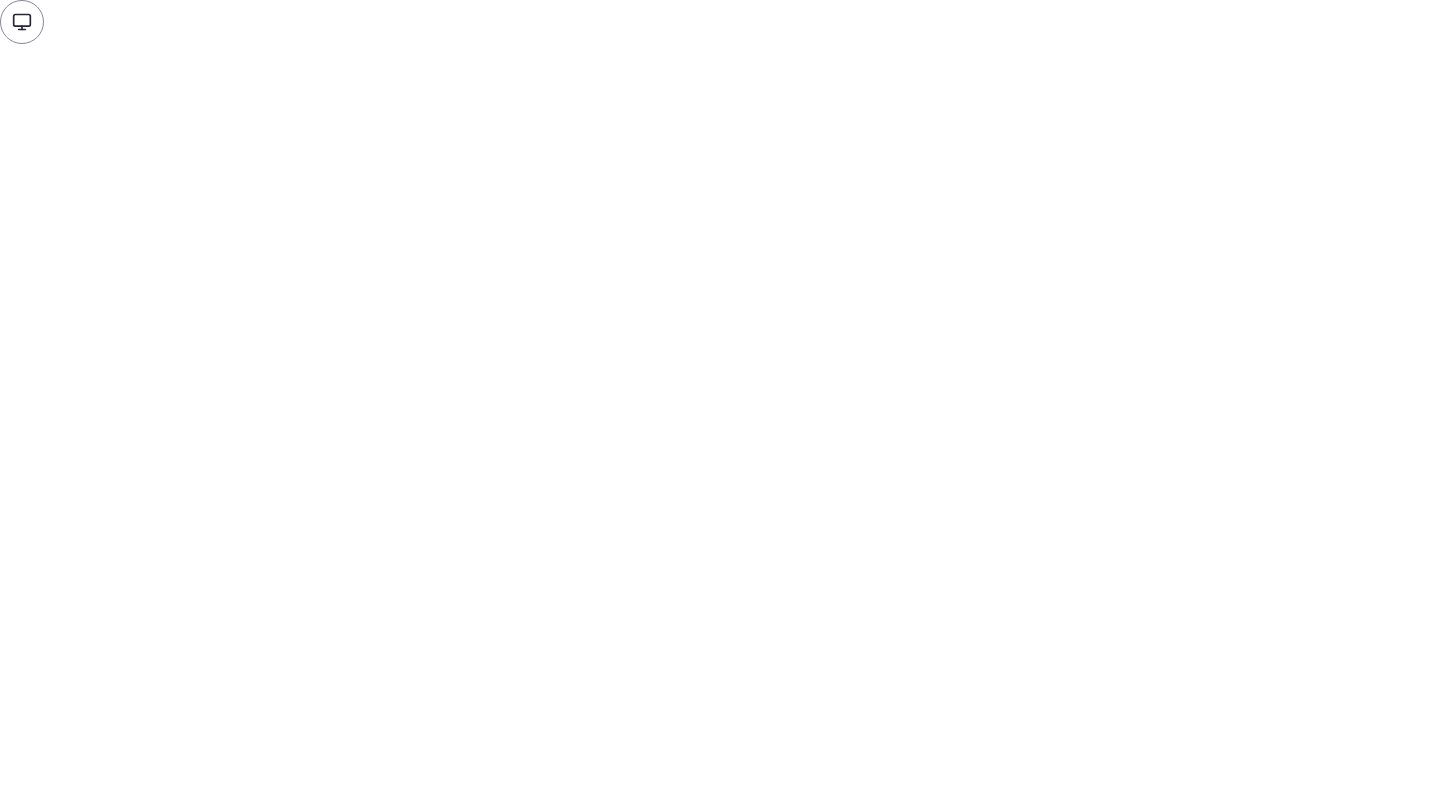
Test: escolher fecha o menu, grava e devolve o foco ao botão
Click the button named "Trocar o tema": click(22, 22) x1=0 y1=0 x2=44 y2=44
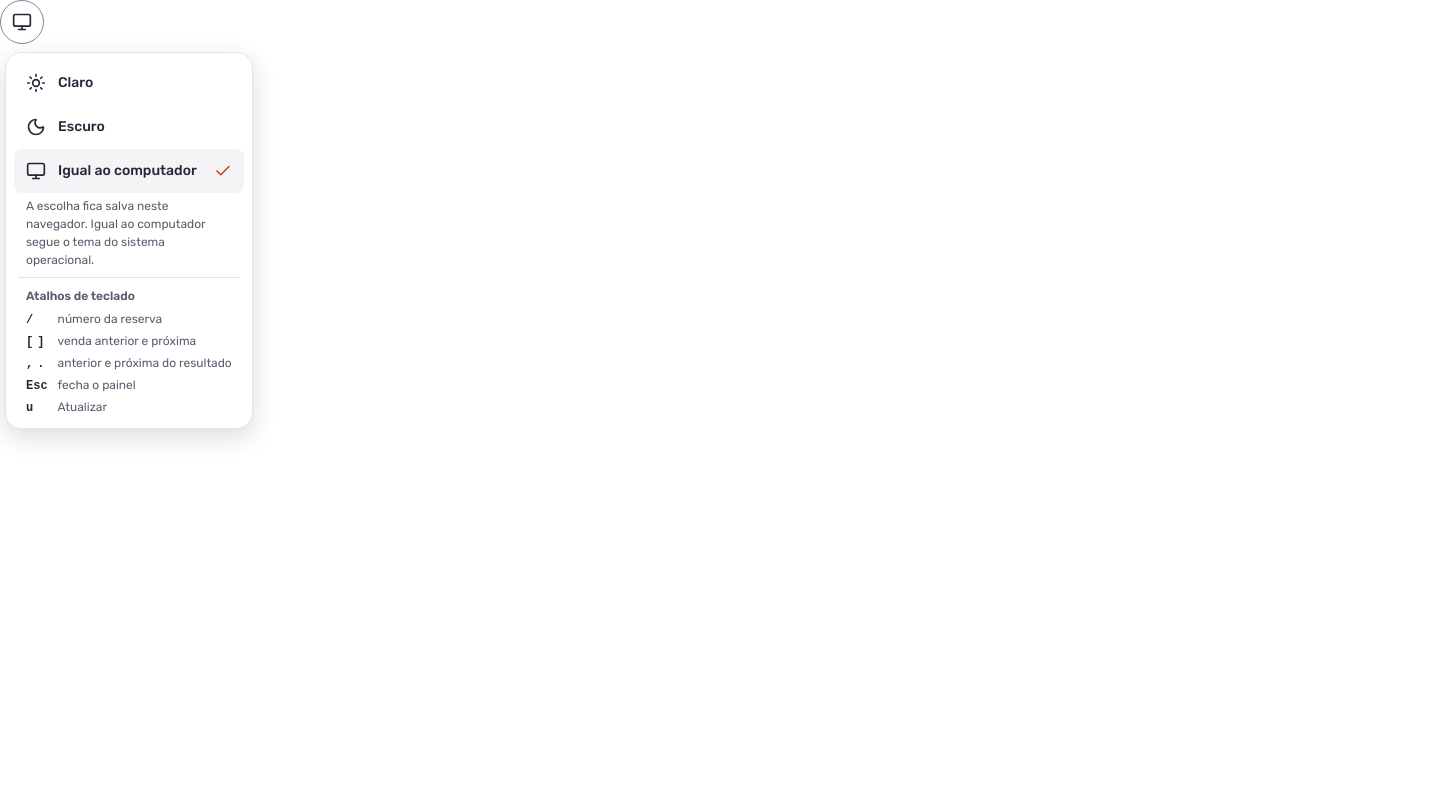
Click the menu item "Escuro": click(65, 127) x1=26 y1=117 x2=105 y2=137
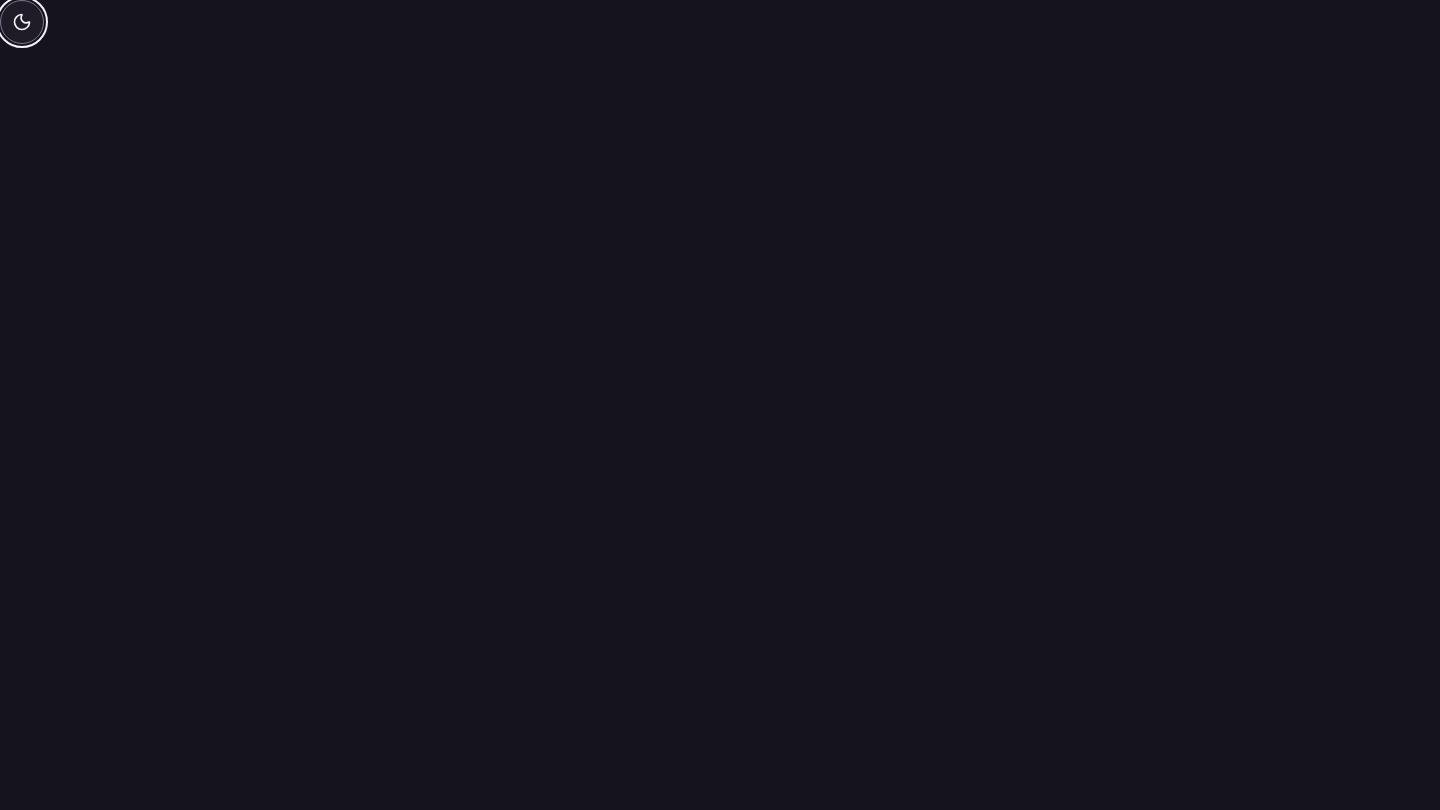
expect the menu is gone: met
